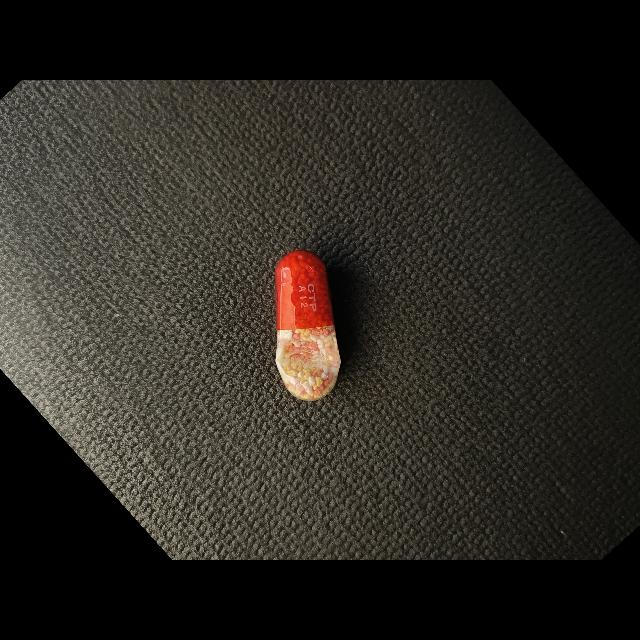Defective Capsule: (275, 250, 341, 401)
